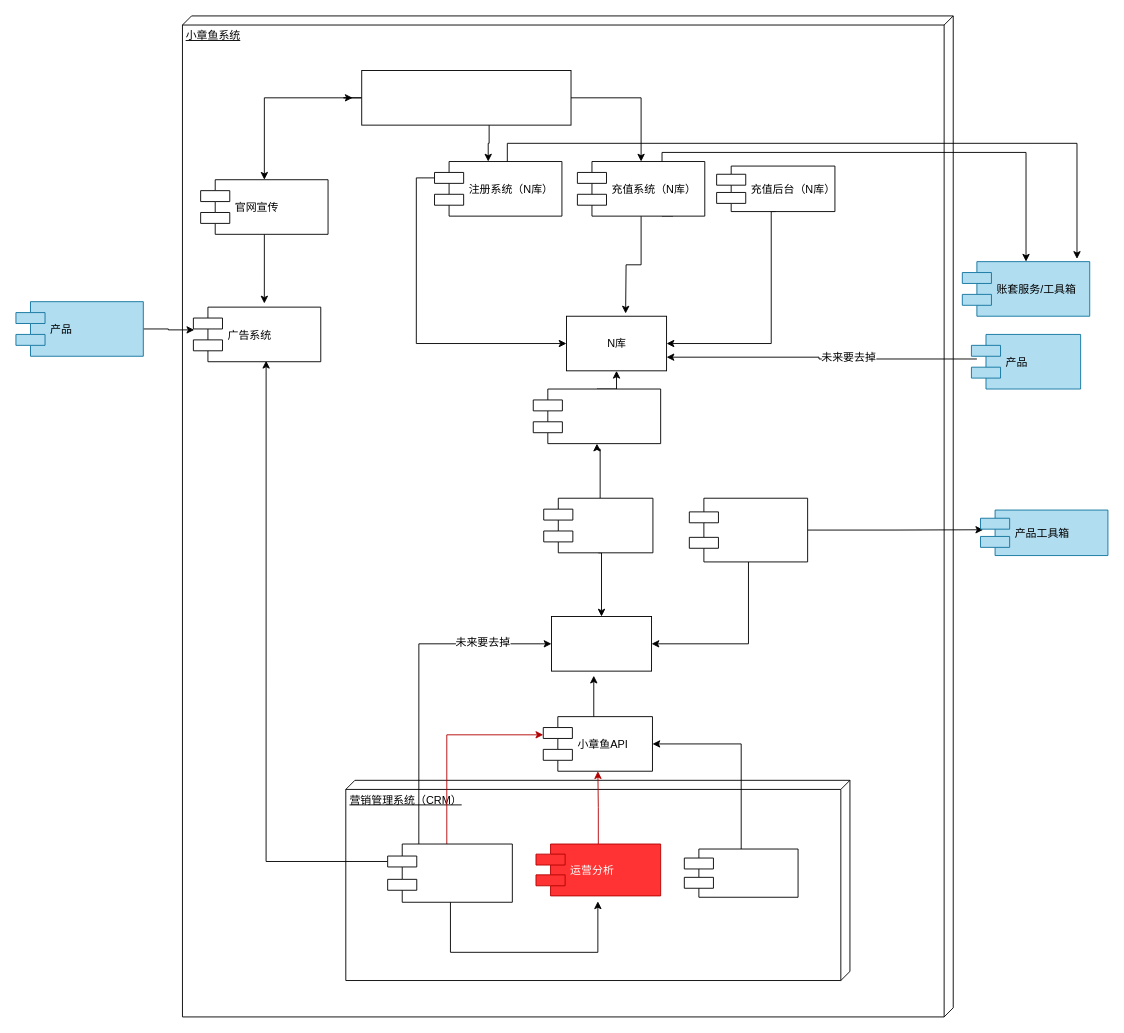
Image size: 1124x1033. Some labels were removed from this diagram. The centre of each missing label's shape, as x and y in pixels:
"C库" goes at pixel 601 643.
"N库同步工具" goes at pixel 598 525.
"产品数据同步服务" goes at pixel 748 529.
"官网" goes at pixel 466 97.
"官网API" goes at pixel 596 416.
"手机移动端" goes at pixel 740 872.
"营销管理与分析" goes at pixel 449 872.
